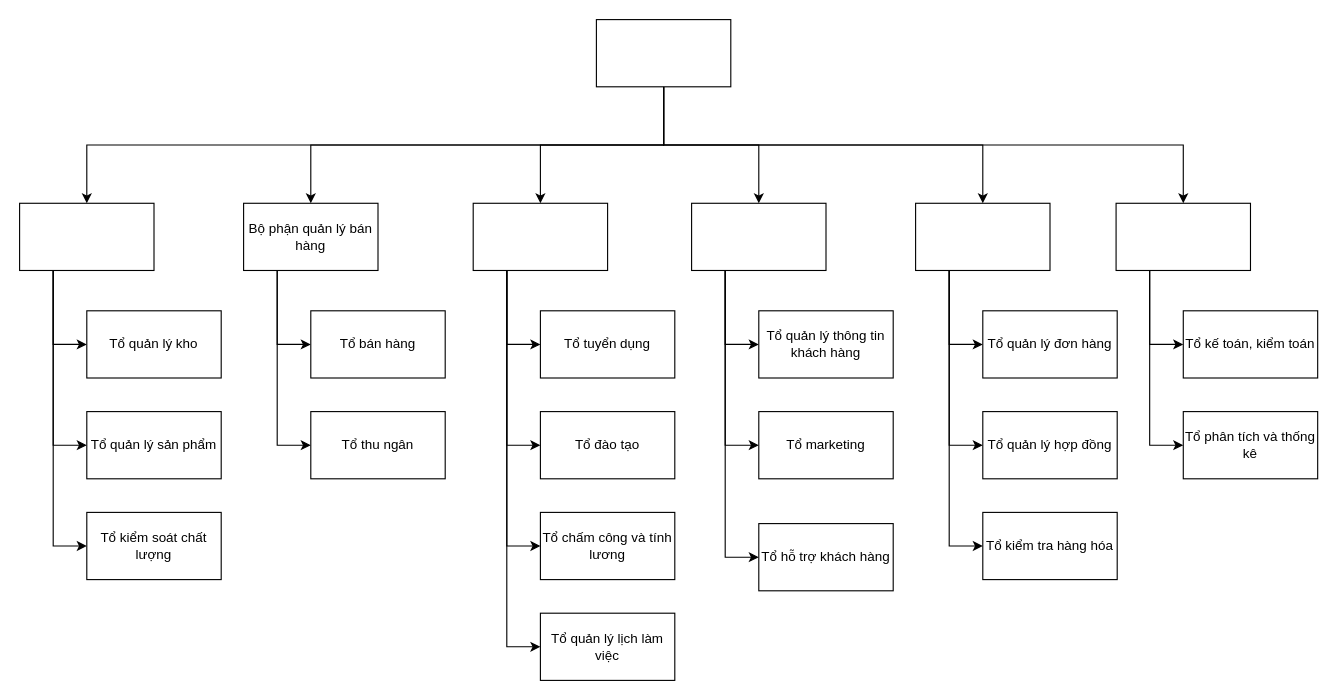
This 1337x700 diagram has some shape labels left out. The centre of each missing label's shape, as x and y in pixels:
Bộ phận quản lý: the point at 663,52
Bộ phận quản lý hàng hóa: the point at 86,236
Bộ phận quản lý khách hàng: the point at 758,236
Bộ phận quản lý nhà cung cấp: the point at 982,236
Bộ phận quản lý nhân viên: the point at 540,236
Bộ phận quản lý tài chính: the point at 1182,236
